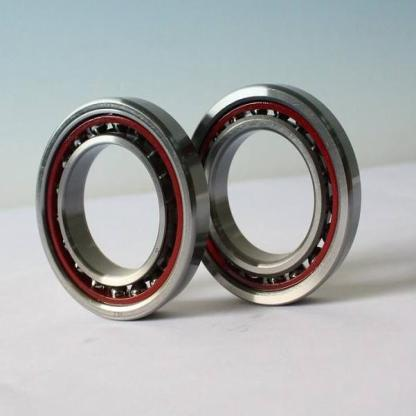FOD: (187, 79, 365, 310), (35, 92, 212, 322)
